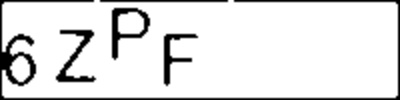6: (4, 32, 36, 90)
F: (155, 30, 205, 90)
P: (107, 2, 155, 69)
Z: (56, 24, 100, 87)
